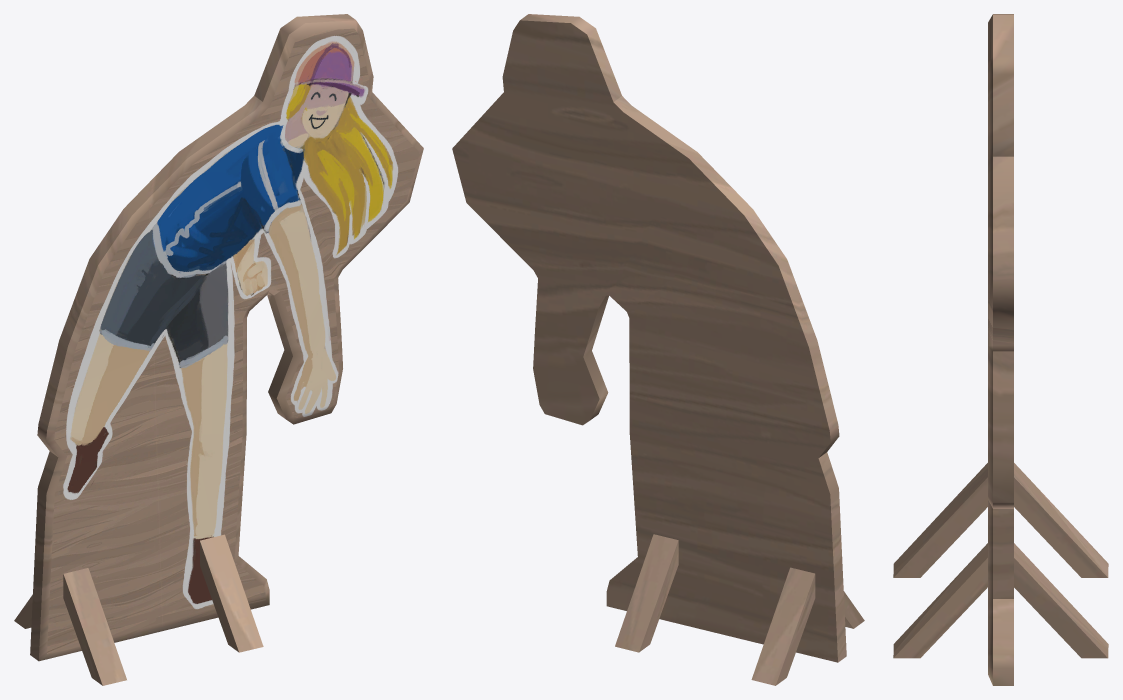
The model's file is standee dodgeball.glb.
3 renders of one model, left to right at view 1: azimuth 30°, elevation 25°; view 2: azimuth 150°, elevation 25°; view 3: azimuth 270°, elevation 25°, orthographic. The views are drawn at different scales.
Parts seen in each view (by area): view 1: DodgeballThrow_Cutout_LOD0; view 2: DodgeballThrow_Cutout_LOD0; view 3: DodgeballThrow_Cutout_LOD0.
Boxes of the visible parts, x1=… form: DodgeballThrow_Cutout_LOD0: x1=14, y1=14, x2=423, y2=685; DodgeballThrow_Cutout_LOD0: x1=452, y1=14, x2=864, y2=685; DodgeballThrow_Cutout_LOD0: x1=893, y1=14, x2=1108, y2=685.
Bounding box in the file's own units: 1.11 × 1.58 × 0.4459.
Materials: 1 (1 with a texture image).
